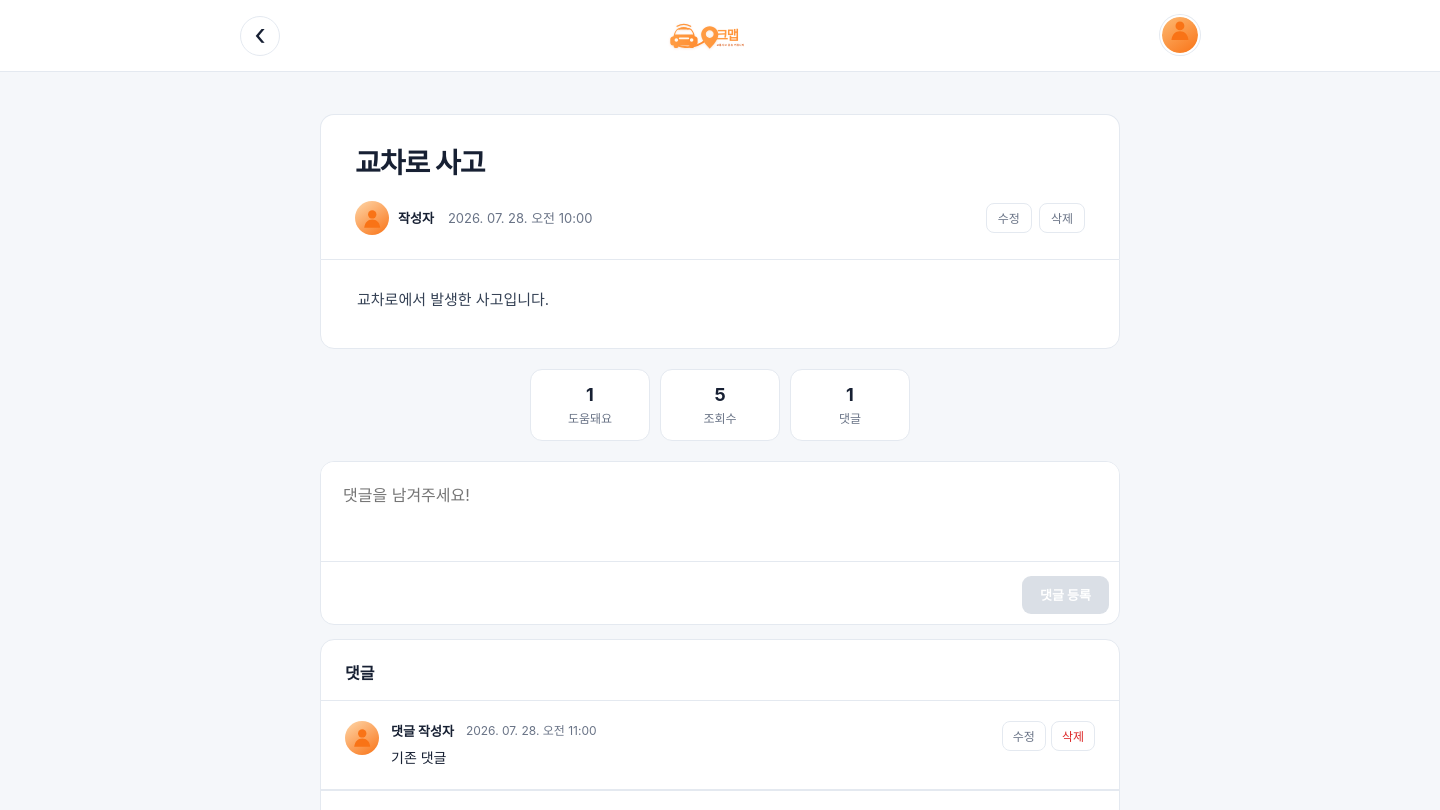
Test: BoardDetailPage › 댓글을 trim해서 등록하고 서버 목록을 다시 조회한다
The width and height of the screenshot is (1440, 810).
Expected: the text "기존 댓글" is shown, [391, 748, 446, 766]
Type "  새 댓글  " into the text box named "댓글 내용". click: (720, 512)
box: [321, 462, 1119, 562]
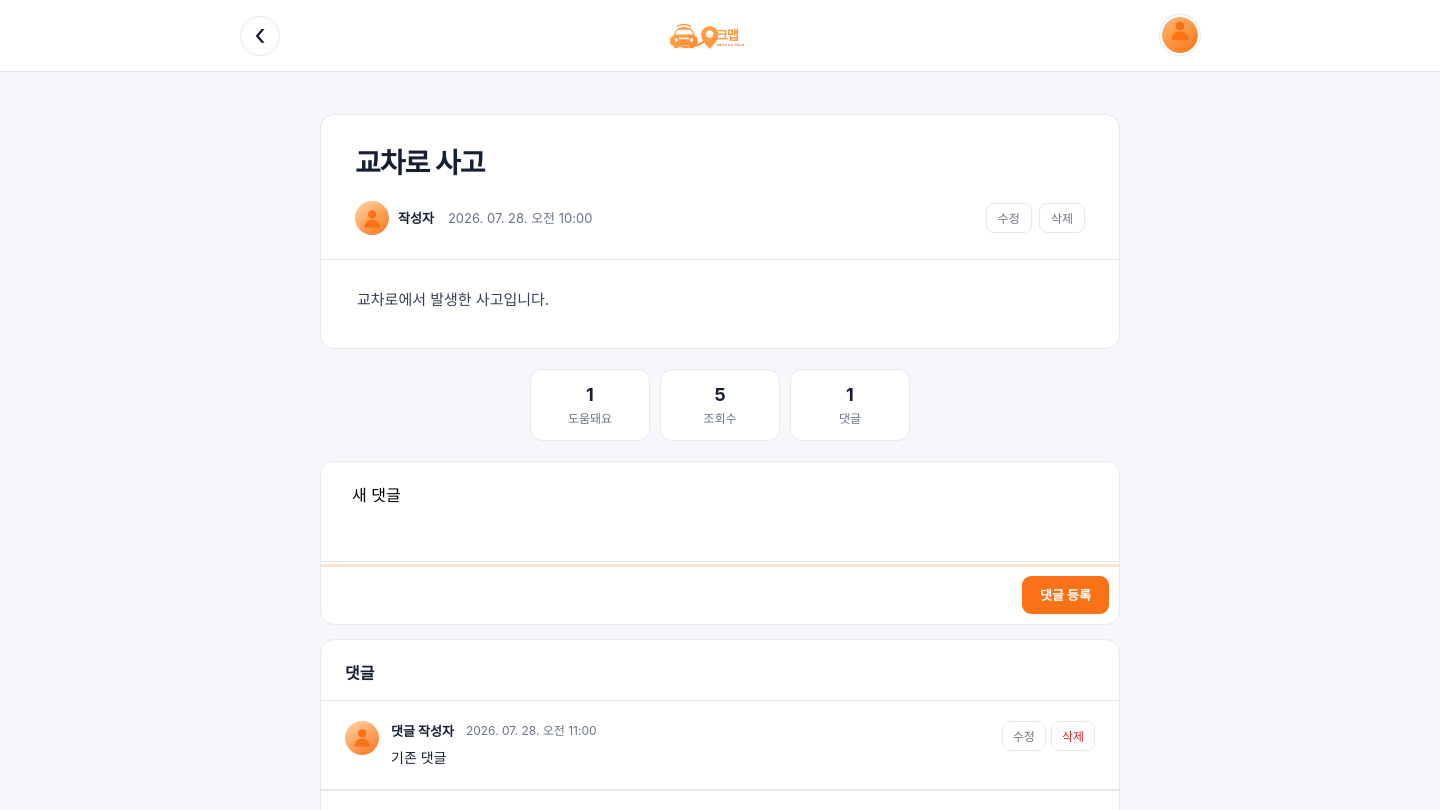
Click the button "댓글 등록". click: (1066, 594)
box: [1022, 576, 1109, 614]
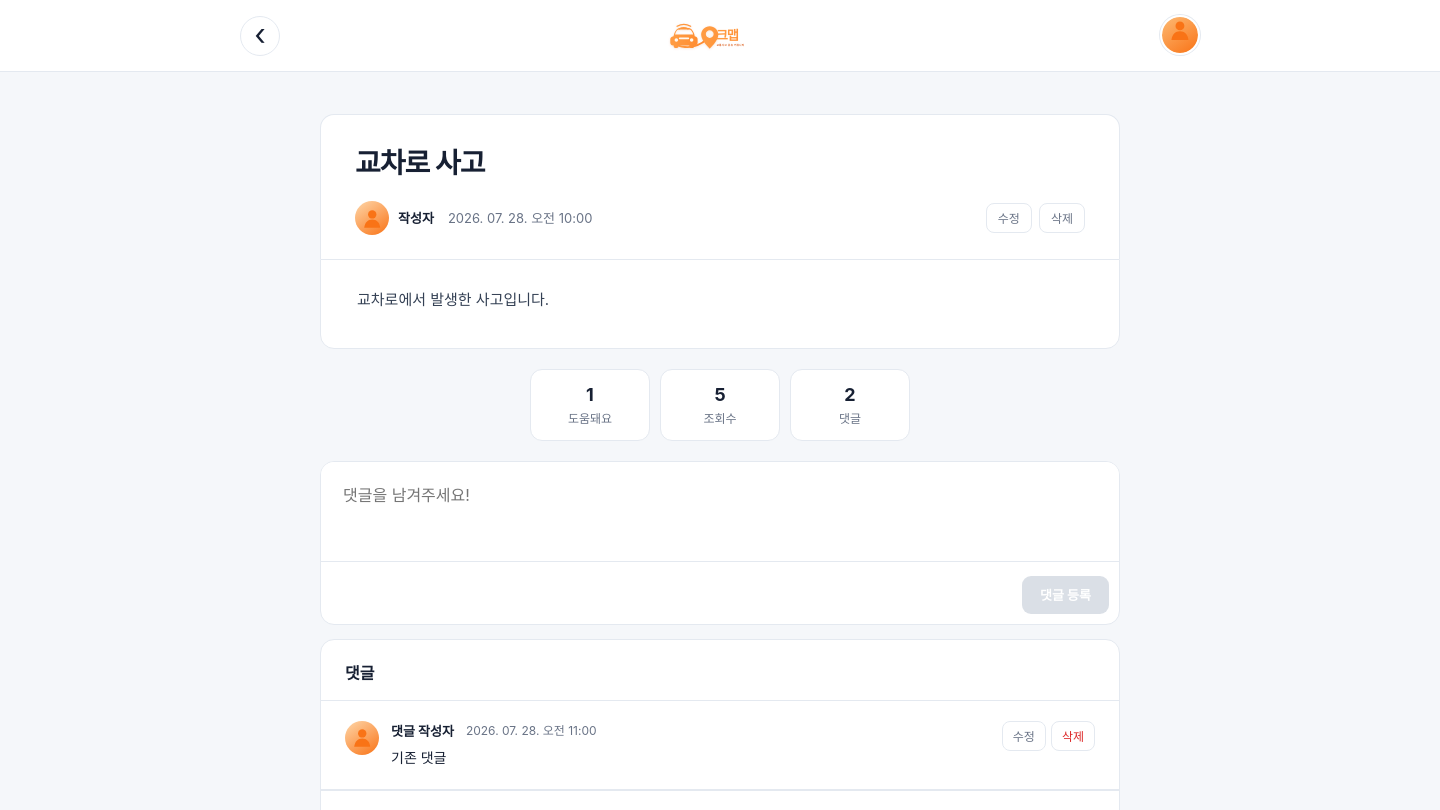
Expected: the text box named "댓글 내용" is empty, [321, 462, 1119, 562]
Expected: the text "2" is shown, [844, 384, 856, 404]
